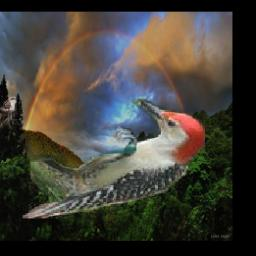Cuckoo: (0, 97, 17, 129)
Woodpecker: (23, 98, 205, 218)
